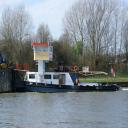tugboat: (14, 34, 123, 97)
